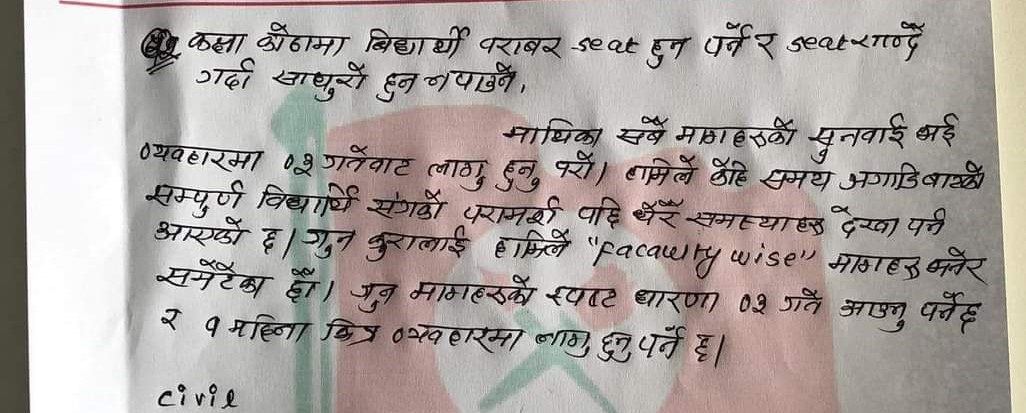text: (836, 158, 990, 196), (153, 257, 274, 303), (805, 112, 908, 165), (386, 318, 525, 357), (133, 136, 266, 176), (408, 273, 537, 312), (673, 113, 801, 151), (685, 205, 826, 239), (365, 221, 473, 265), (360, 22, 475, 60), (253, 17, 349, 61), (141, 177, 243, 218), (254, 180, 360, 219), (270, 63, 368, 104), (319, 142, 418, 181), (596, 323, 687, 365), (420, 60, 519, 98), (851, 19, 932, 65), (496, 118, 605, 151), (151, 215, 250, 250), (461, 193, 561, 227), (828, 249, 924, 284), (914, 289, 983, 335), (838, 293, 908, 338), (824, 202, 902, 242), (226, 309, 312, 344), (363, 189, 448, 224), (541, 279, 619, 317), (619, 152, 699, 189), (423, 148, 487, 193), (479, 29, 565, 62), (628, 284, 722, 314), (923, 246, 990, 287), (492, 226, 572, 260), (496, 149, 547, 196), (192, 58, 256, 95), (756, 166, 833, 196), (318, 315, 379, 352), (301, 221, 360, 259), (533, 324, 592, 362), (699, 20, 753, 60), (627, 196, 685, 232), (913, 112, 965, 151), (614, 113, 670, 149), (184, 28, 248, 57), (348, 279, 399, 315), (706, 155, 753, 194), (375, 67, 423, 105), (574, 195, 626, 230), (644, 34, 691, 72), (551, 147, 598, 185), (777, 284, 825, 318), (281, 265, 318, 305), (903, 206, 947, 238), (279, 149, 317, 181), (735, 289, 770, 321), (752, 29, 781, 62), (689, 328, 712, 363), (255, 227, 282, 256), (157, 304, 183, 332), (202, 312, 224, 339)
